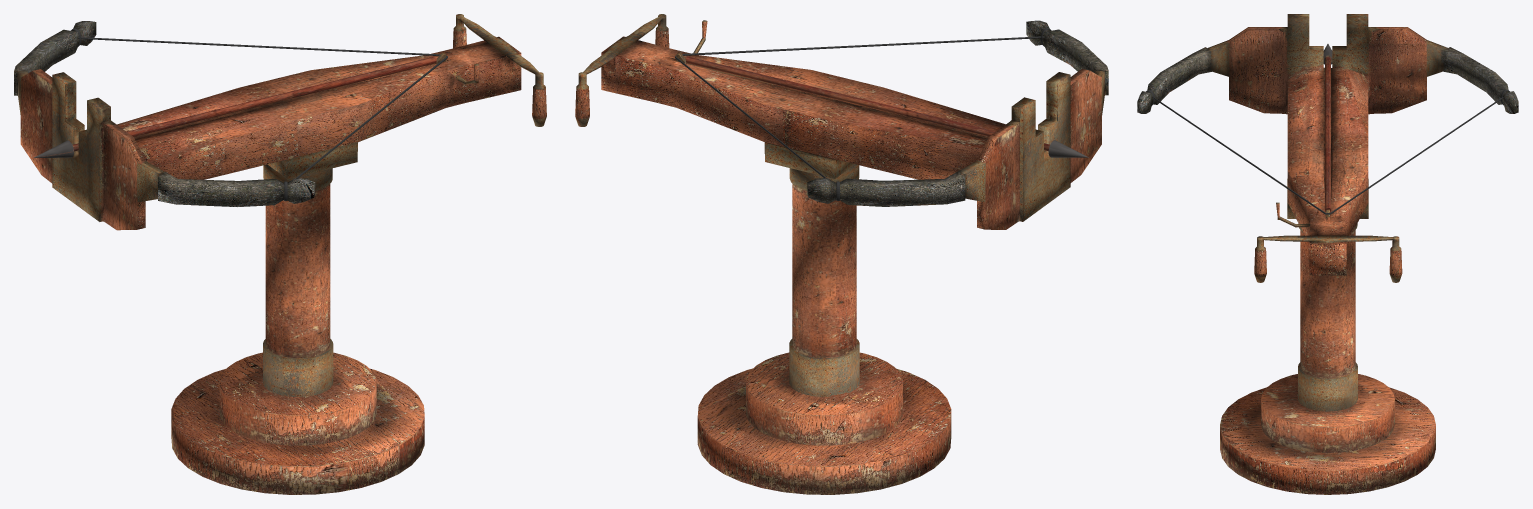
The model's file is crossbow_2.fbx.
3 renders of one model, left to right at view 1: azimuth 30°, elevation 25°; view 2: azimuth 150°, elevation 25°; view 3: azimuth 270°, elevation 25°, orthographic. The views are drawn at different scales.
Parts seen in each view (by area): view 1: crossbow, Base, arrow, Strings; view 2: crossbow, Base, arrow, Strings; view 3: crossbow, Base, arrow, Strings.
Boxes of the visible parts, left/top/right/bottom form: crossbow: left=14, top=14, right=546, bottom=230; Base: left=171, top=164, right=424, bottom=494; arrow: left=33, top=56, right=436, bottom=157; Strings: left=78, top=37, right=447, bottom=177; crossbow: left=575, top=14, right=1108, bottom=229; Base: left=697, top=164, right=951, bottom=494; arrow: left=686, top=56, right=1089, bottom=157; Strings: left=675, top=36, right=1044, bottom=177; crossbow: left=1137, top=14, right=1518, bottom=282; Base: left=1220, top=223, right=1435, bottom=494; arrow: left=1323, top=44, right=1332, bottom=211; Strings: left=1152, top=96, right=1503, bottom=214.
Size of the model in its own units: 417 by 337 by 339.
4 materials, 3 textured.
